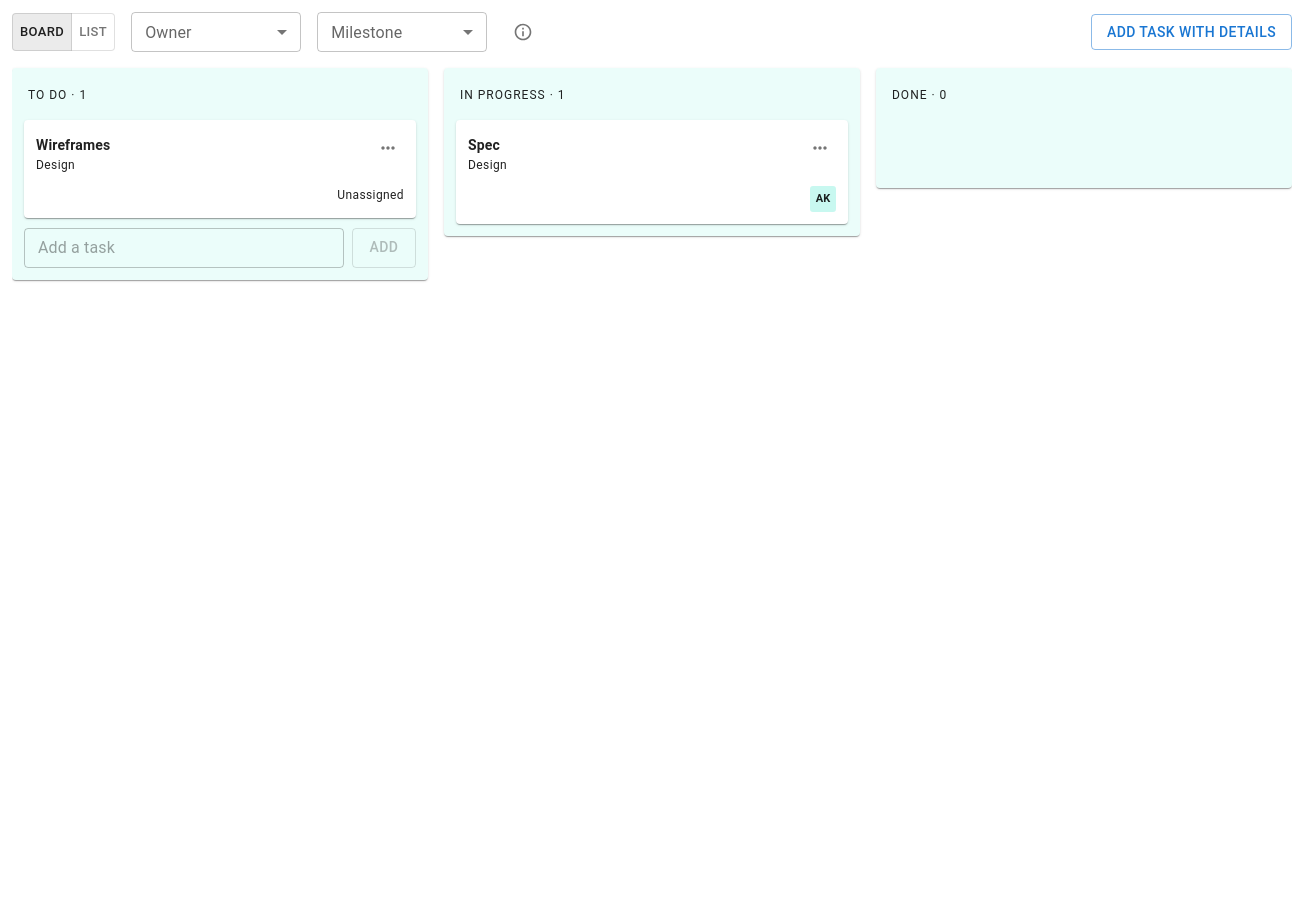
Test: TasksTab: a manager › says what moved in a toast, and Undo moves the task back and refreshes again
Expected: the button "Wireframes" is shown, [36, 135, 110, 155]
Click the button named "Task actions: Wireframes": (388, 148) [366, 126, 410, 170]
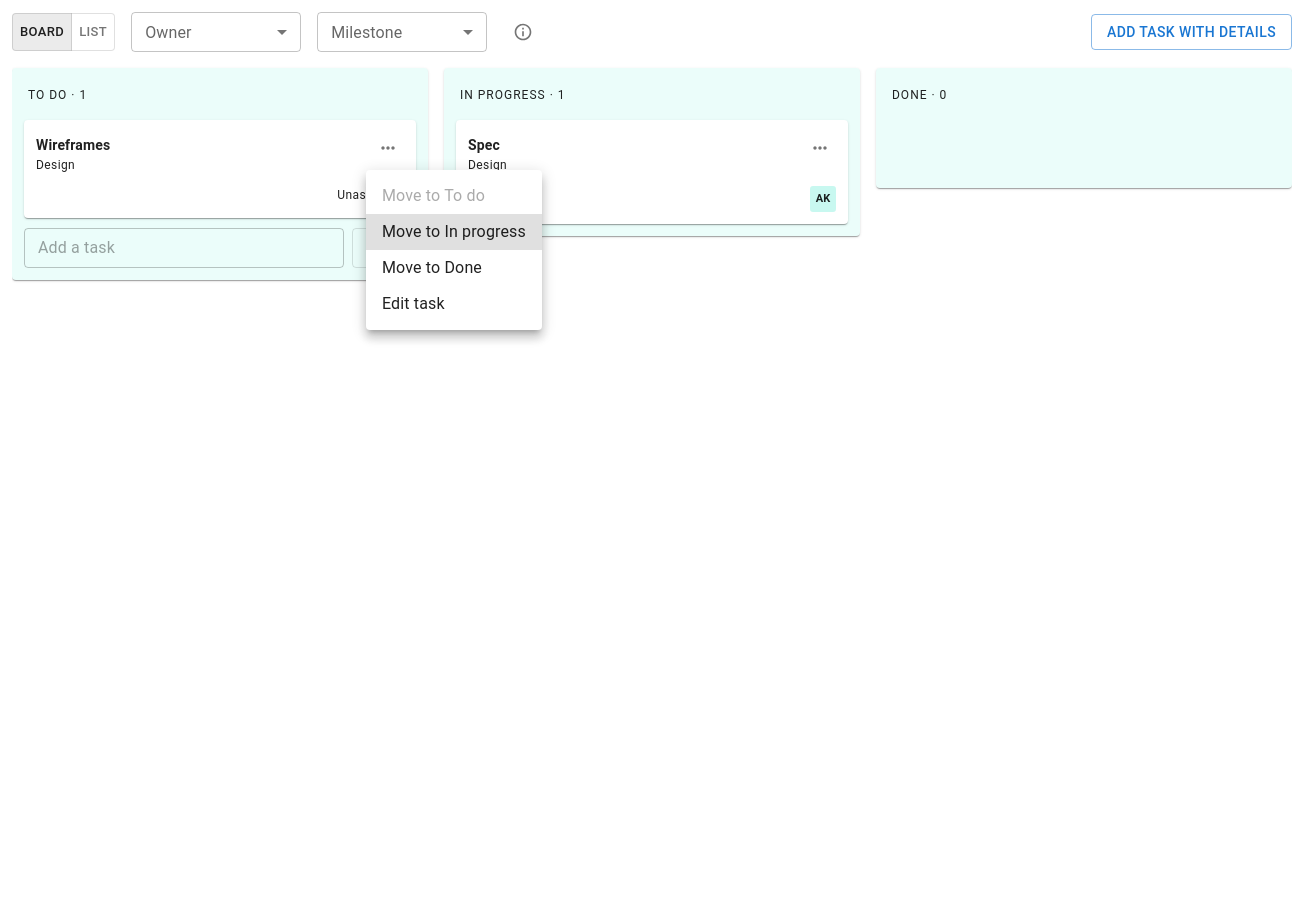
Click the menu item "Move to In progress": (454, 232) [366, 214, 542, 250]
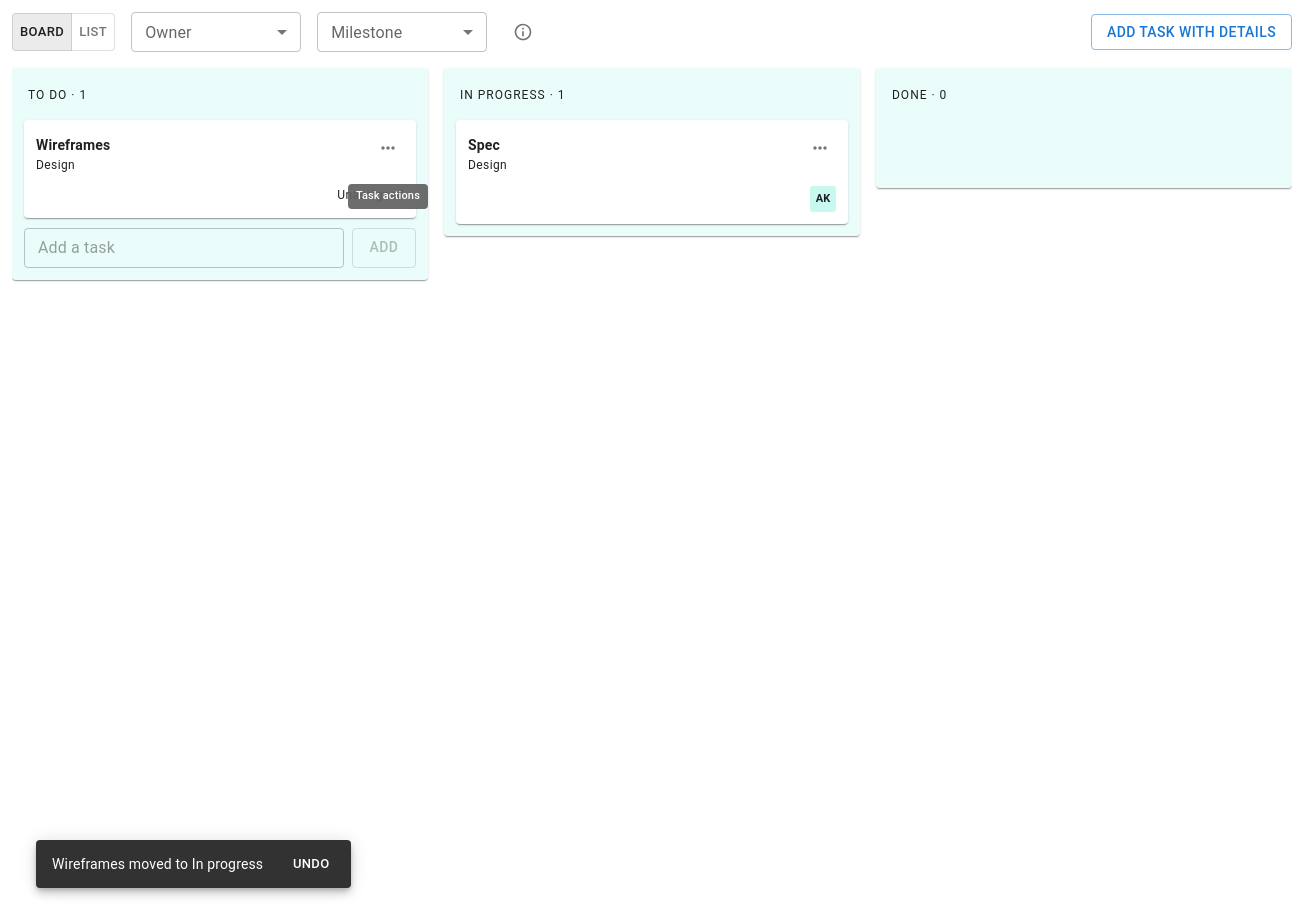
Now the text "Wireframes moved to In progress" is shown, box [52, 856, 263, 872]
Click the button "Undo": (311, 864) [279, 849, 343, 879]
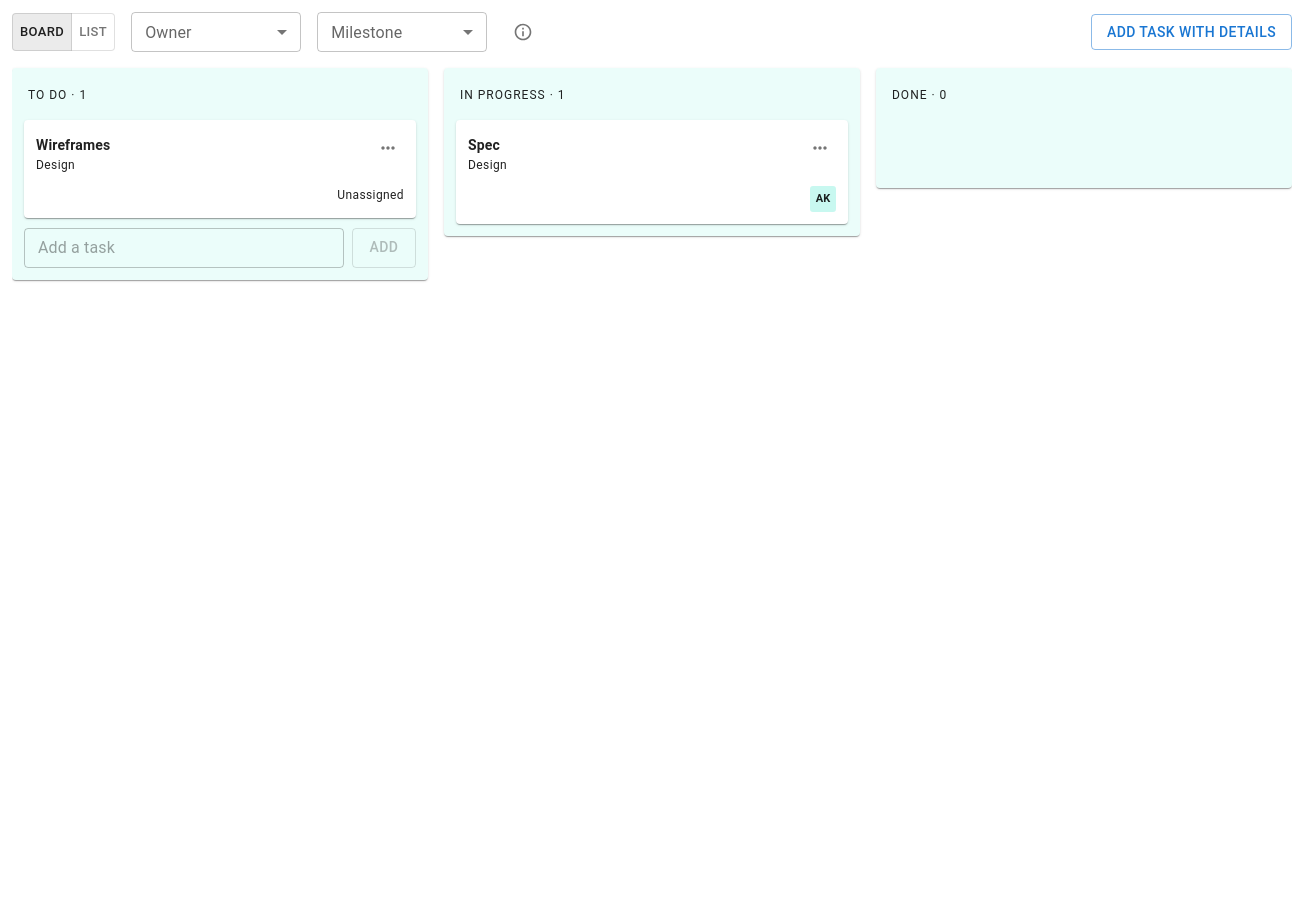
Now the button "Undo" is gone
